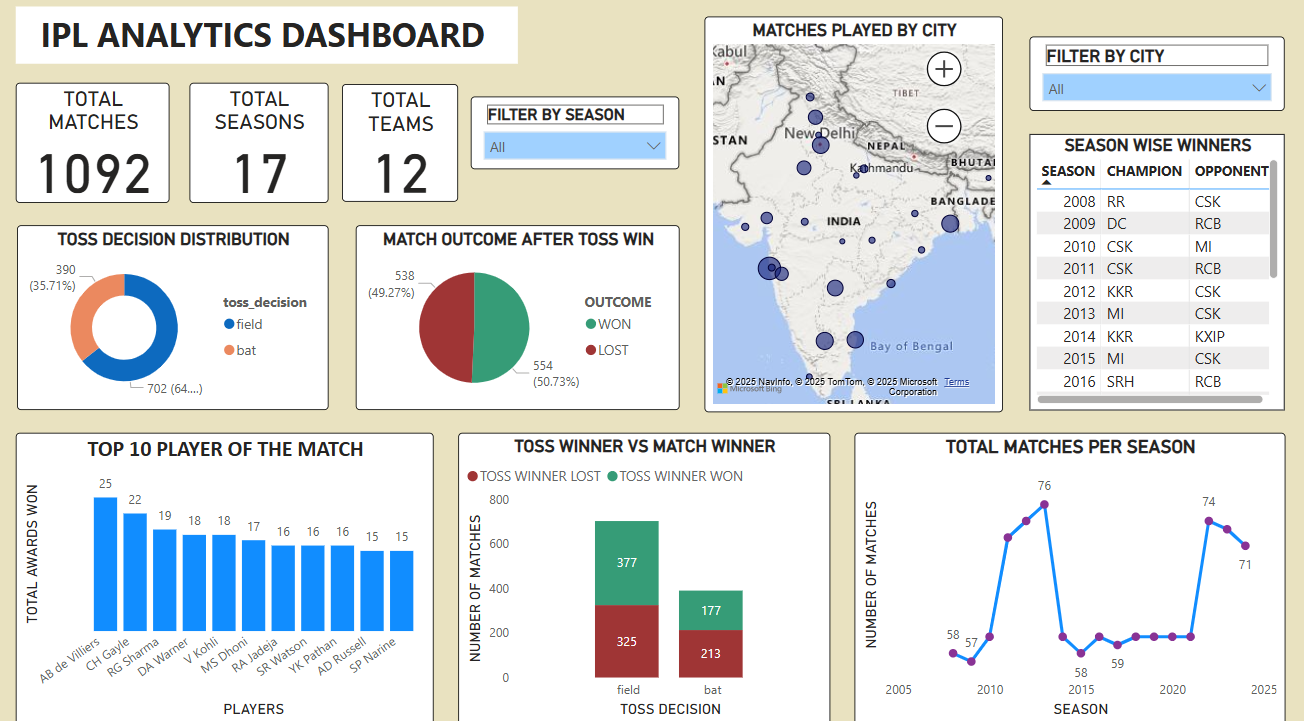

The dashboard page shown, as its layout file describes it:
{"tool":"powerbi","page":{"name":"Page 1","canvas":[1280,720],"ordinal":0},"visuals":[{"type":"card","title":"TOTAL MATCHES","fields":{"Values":["ipl_match.total_matches"]},"box":[18.3,91.7,150.4,117.4],"z":0},{"type":"card","title":"TOTAL SEASONS","fields":{"Values":["ipl_match.season"]},"box":[188.3,91.7,135.7,117.4],"z":1000},{"type":"card","title":"TOTAL TEAMS","fields":{"Values":["ipl_match.team1"]},"box":[337.5,92.9,113.7,114.9],"z":2000},{"type":"columnChart","title":"TOP 10 PLAYER OF THE MATCH","fields":{"Category":["ipl_match.player_of_match"],"Y":["ipl_match.player_of_match"]},"box":[17.8,433.6,408.9,286.8],"z":3000},{"type":"columnChart","title":"TOSS WINNER VS MATCH WINNER","fields":{"Category":["ipl_match.toss_decision"],"Y":["ipl_match.id"],"Series":["ipl_match.TOSSWIN_MATCHWIN"]},"box":[451.5,433.6,363.6,286.8],"z":4000},{"type":"lineChart","title":"TOTAL MATCHES PER SEASON","fields":{"Category":["ipl_match.season"],"Y":["ipl_match.id"]},"box":[838.4,433.6,421.3,286.8],"z":6000},{"type":"donutChart","title":"TOSS DECISION DISTRIBUTION","fields":{"Category":["ipl_match.toss_decision"],"Y":["ipl_match.id"]},"box":[19.2,230.5,304.6,181.1],"z":7000},{"type":"slicer","title":"FILTER BY CITY","fields":{"Values":["ipl_match.city"]},"box":[1010,46.7,249.7,72.7],"z":7001},{"type":"map","title":"MATCHES PLAYED BY CITY","fields":{"Category":["ipl_match.city"],"Size":["ipl_match.id"]},"box":[691.6,27.4,292.3,387],"z":7002},{"type":"tableEx","title":"SEASON WISE WINNERS","fields":{"Values":["Table.SEASON","Table.CHAMPION","Table.OPPONENT"]},"box":[1010,141.3,249.7,270.3],"z":7003},{"type":"pieChart","title":"MATCH OUTCOME AFTER TOSS WIN","fields":{"Category":["ipl_match.TOSS RESULT OUTCOME"],"Y":["ipl_match.id"]},"box":[351.3,230.5,317,181.1],"z":7004},{"type":"slicer","fields":{"Values":["ipl_match.season"]},"box":[463.5,105.2,204.2,70.9],"z":7005},{"type":"textbox","box":[18.3,17.1,491.6,56.3],"z":7006}]}

Visuals, with their boxes in screenshot pixels (x1, y1, x2, y2), scaled from the page's 1280x720 canvas onto the 1304x721 screenshot:
"TOTAL MATCHES" card: box=[19, 92, 172, 209]
"TOTAL SEASONS" card: box=[192, 92, 330, 209]
"TOTAL TEAMS" card: box=[344, 93, 460, 208]
"TOP 10 PLAYER OF THE MATCH" columnChart: box=[18, 434, 435, 720]
"TOSS WINNER VS MATCH WINNER" columnChart: box=[460, 434, 830, 720]
"TOTAL MATCHES PER SEASON" lineChart: box=[854, 434, 1283, 720]
"TOSS DECISION DISTRIBUTION" donutChart: box=[20, 231, 330, 412]
"FILTER BY CITY" slicer: box=[1029, 47, 1283, 120]
"MATCHES PLAYED BY CITY" map: box=[705, 27, 1002, 415]
"SEASON WISE WINNERS" tableEx: box=[1029, 141, 1283, 412]
"MATCH OUTCOME AFTER TOSS WIN" pieChart: box=[358, 231, 681, 412]
slicer - ipl_match.season: box=[472, 105, 680, 176]
textbox: box=[19, 17, 519, 74]
